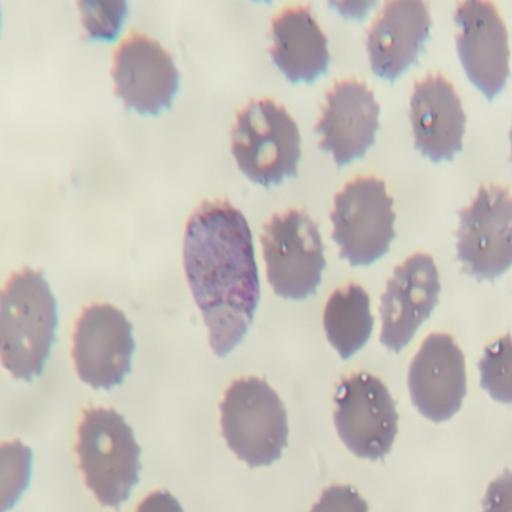Infected: (182, 198, 262, 354)
Uninfected: (76, 408, 143, 506), (450, 0, 512, 101), (331, 171, 395, 267), (366, 0, 434, 88), (378, 254, 439, 351), (0, 268, 55, 375), (334, 370, 399, 459), (111, 31, 179, 116), (221, 378, 287, 465), (232, 99, 299, 182), (316, 79, 380, 164), (264, 210, 325, 299), (409, 333, 467, 426), (459, 181, 512, 282), (72, 304, 133, 389), (410, 69, 464, 160), (268, 7, 329, 85), (322, 284, 373, 359)
